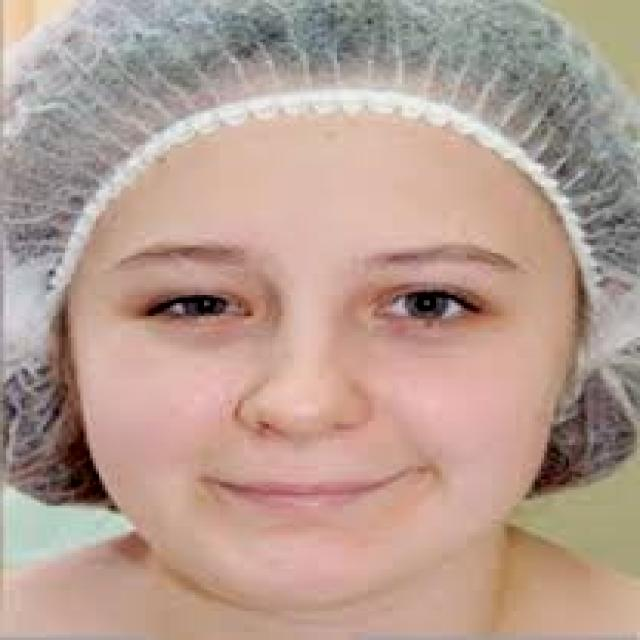stroke_face: (48, 90, 590, 604)
